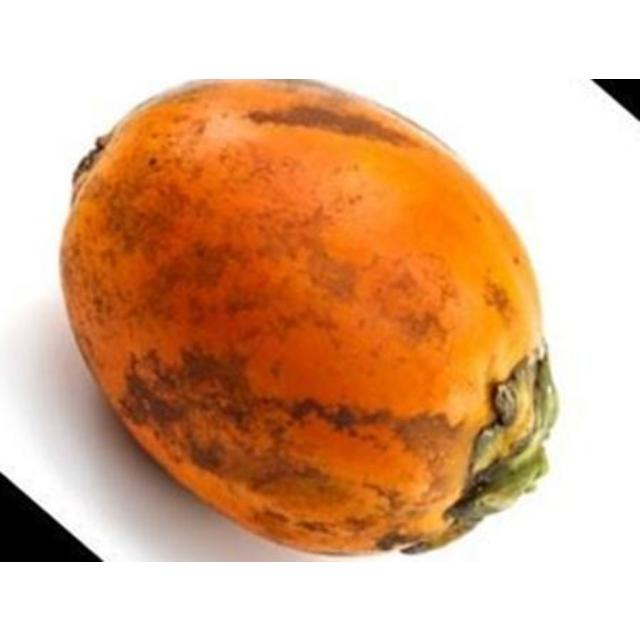good: (58, 78, 560, 557)
